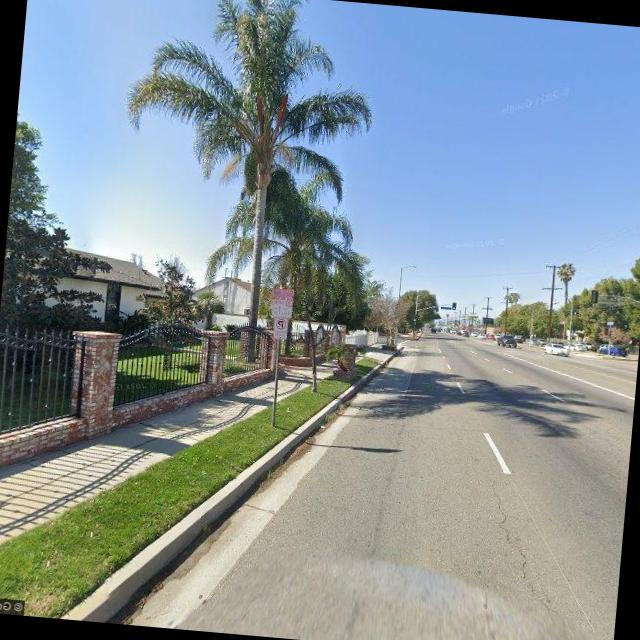pothole: (478, 472, 576, 628)
